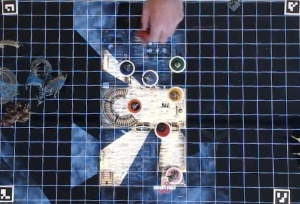blue: (120, 58, 135, 75)
green: (169, 55, 187, 74)
orange: (126, 98, 143, 115)
pink: (165, 165, 184, 185)
red: (153, 121, 171, 140)
violet: (141, 69, 161, 88)
yellow: (167, 85, 185, 103)
